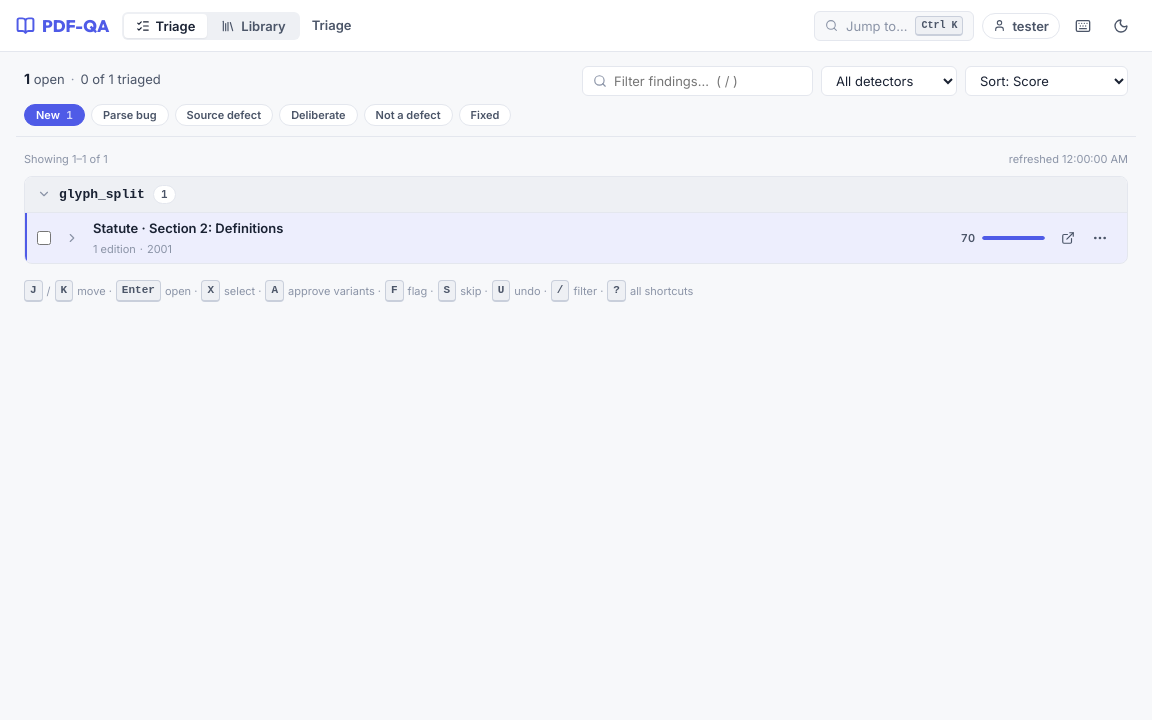
it: triage bulk undo › bulk triage posts one atomic batch, and undo posts the inverse
The width and height of the screenshot is (1152, 720).
Check: the text "Statute · Section 2: Definitions" is shown, box [93,219,283,238]
Click the checkbox named "Select finding" at (44,238), box [37,231,51,245]
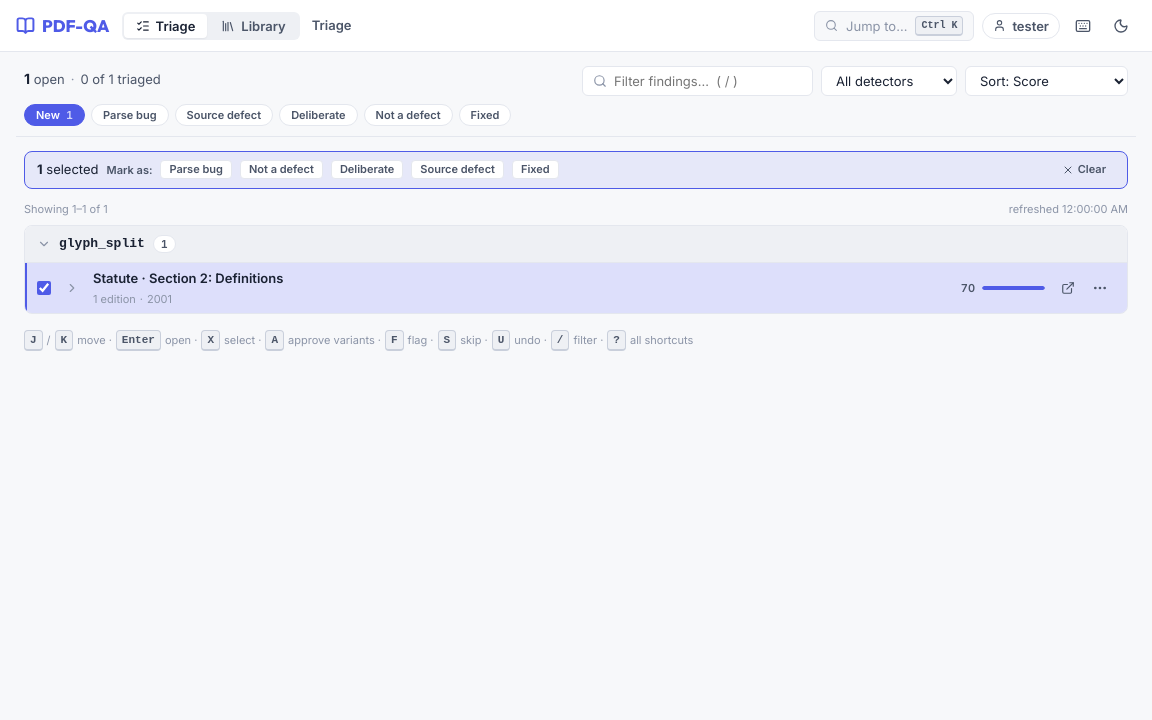
Click the button "Deliberate" in the row of "Mark as:" at (367,170), box [331,160,403,179]
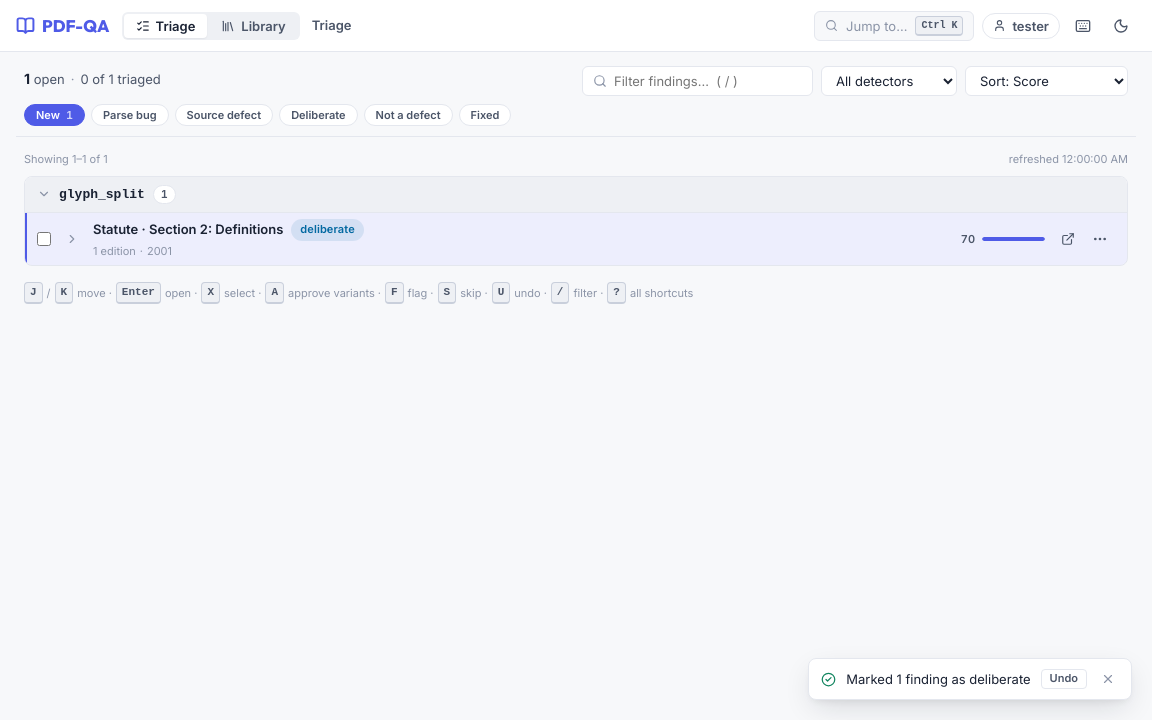
Click the button "Undo" at (1064,679), box [1041,669,1087,689]
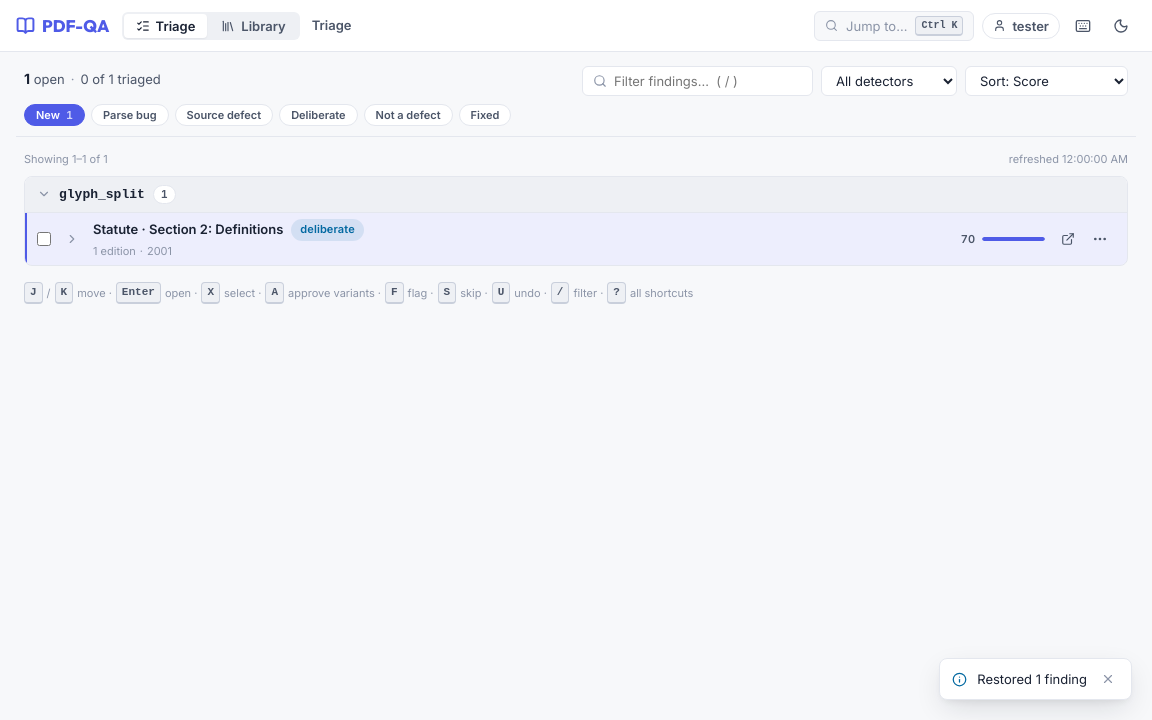
Check: the text "Restored 1 finding" is shown, box [977,670,1087,688]
